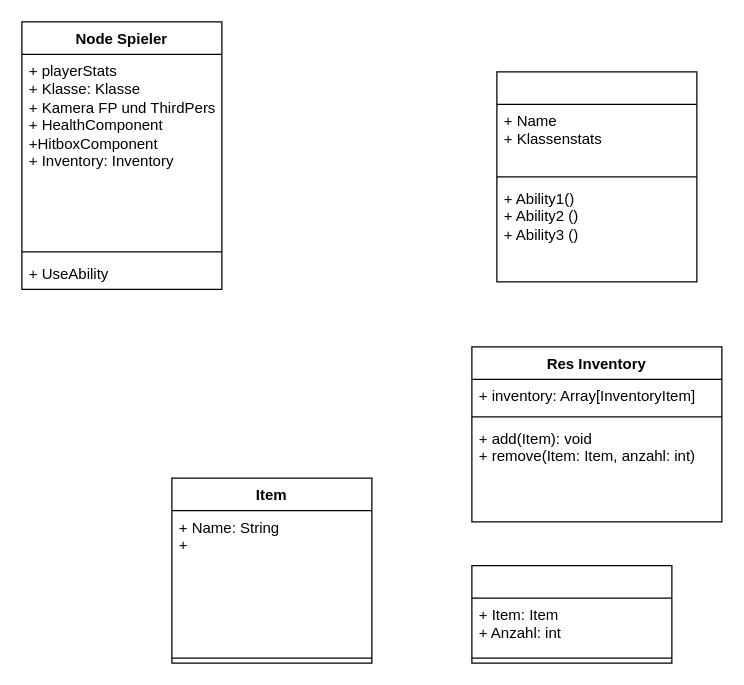
Image size: 744x685. Some labels were removed from this diagram. Each missing label, with the box of its shape:
InventoryItem: (471, 564, 672, 663)
Res Klasse: (496, 71, 697, 282)
